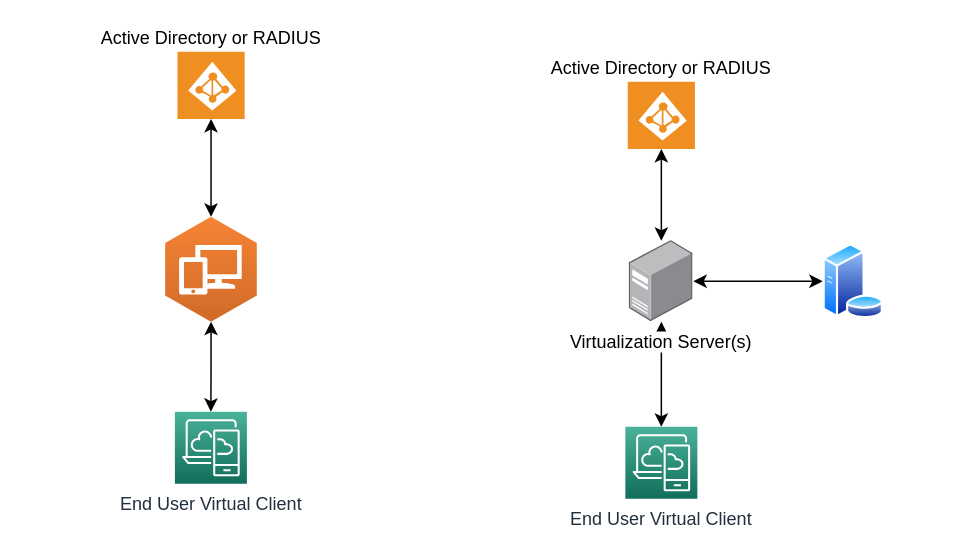
This 962x555 diagram has some shape labels left out. Here are the shapes that lost their labels. From the top down, the centre of each, then its label:
(210,268): Amazon WorkSpaces or other Hosted Solution
(853,280): Domain File Servers
